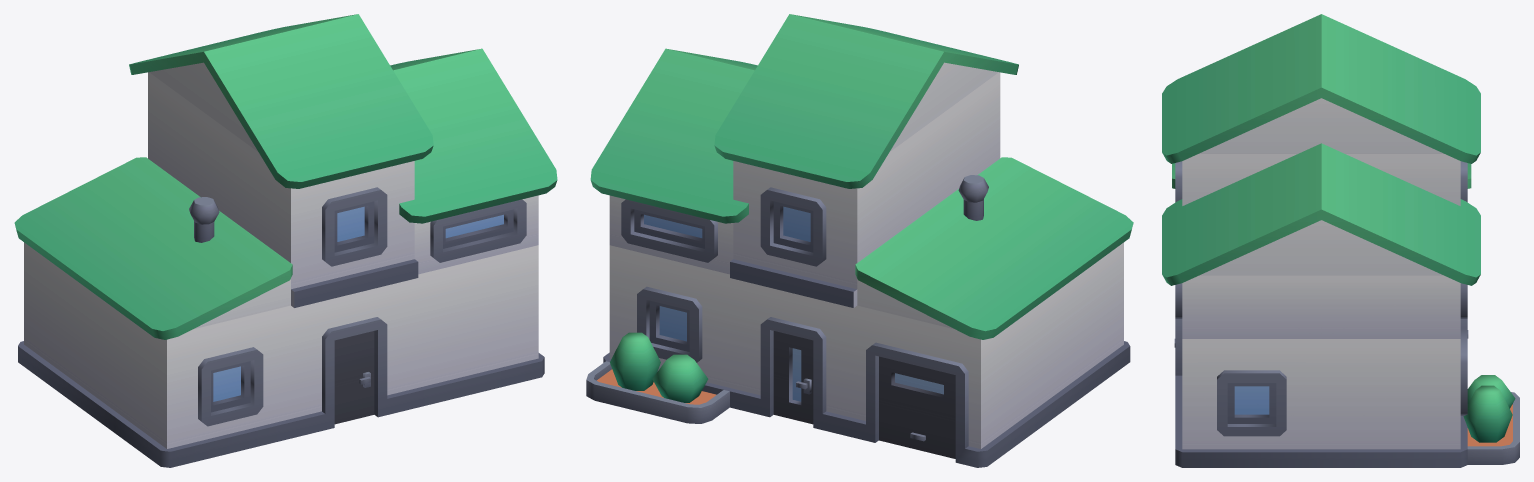
Rendered from house-c.glb.
The picture shows the model from 3 angles, left to right: view 1: azimuth 30°, elevation 25°; view 2: azimuth 150°, elevation 25°; view 3: azimuth 270°, elevation 25°; orthographic projection. The views are drawn at different scales.
Visible parts, largest first — view 1: building-type-c; view 2: building-type-c; view 3: building-type-c.
Boxes of the visible parts, left/top/right/bottom form: building-type-c: left=14, top=14, right=557, bottom=467; building-type-c: left=586, top=14, right=1133, bottom=467; building-type-c: left=1162, top=14, right=1519, bottom=467.
Size of the model in its own units: 1.29 by 1.03 by 1.03.
Materials: 1 (1 with a texture image).
